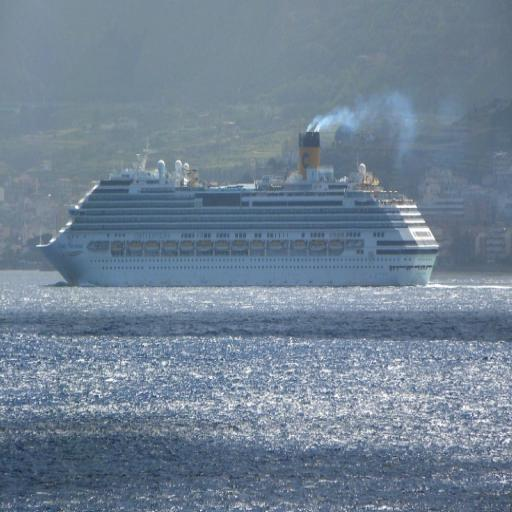cruises: (35, 129, 442, 294)
